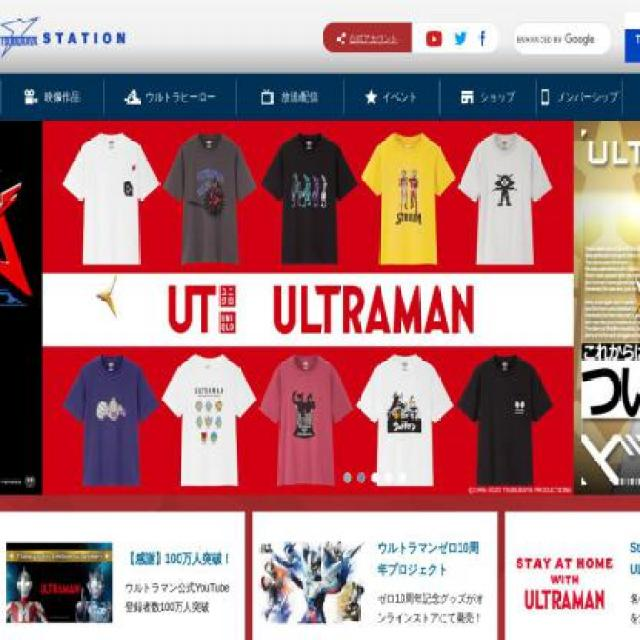button: (109, 119, 640, 496), (0, 120, 109, 495), (103, 73, 237, 121), (236, 73, 344, 121), (0, 73, 103, 121), (343, 73, 440, 121), (439, 73, 536, 121), (536, 73, 622, 121), (94, 273, 118, 319), (624, 12, 640, 63), (632, 273, 640, 321), (344, 472, 351, 483), (358, 472, 365, 483), (372, 472, 379, 483), (385, 472, 392, 483), (399, 472, 406, 483)
field: (517, 31, 606, 47)
